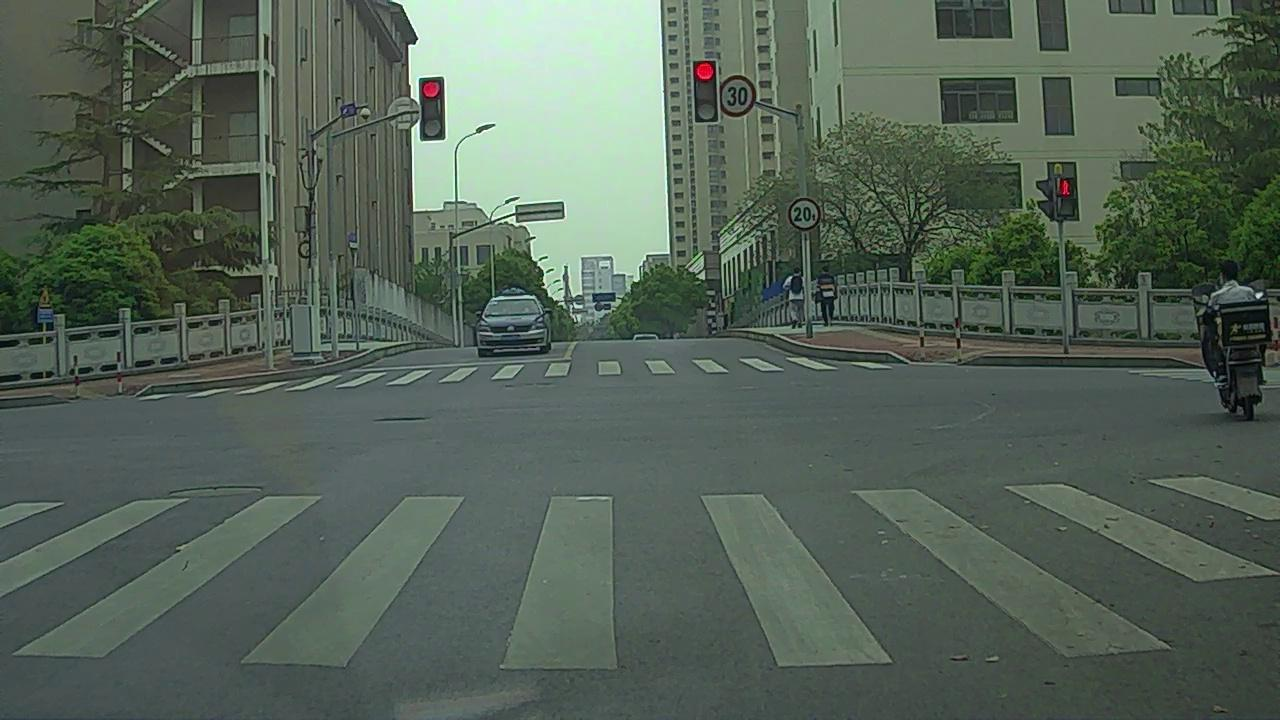traffic_light: (693, 62, 719, 124), (423, 77, 444, 141)
